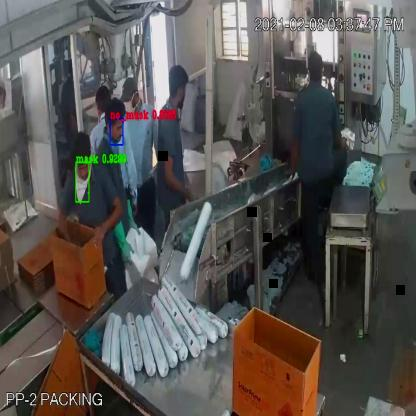glove: (113, 217, 135, 270), (122, 198, 143, 244)
no_glove: (161, 146, 200, 207), (93, 199, 125, 248), (55, 201, 74, 254)
